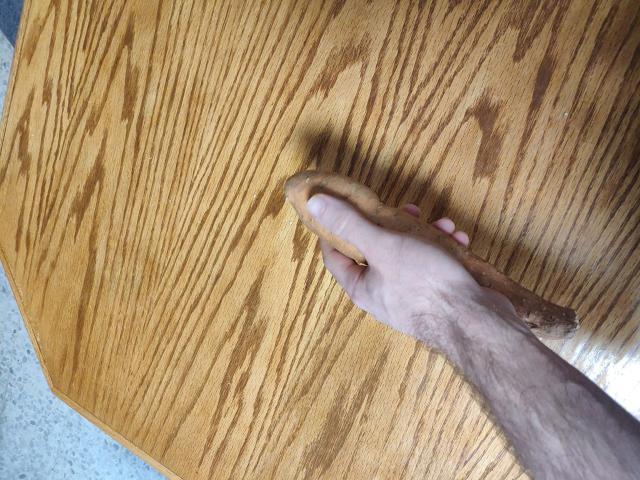sweet_potato: (278, 166, 625, 342)
